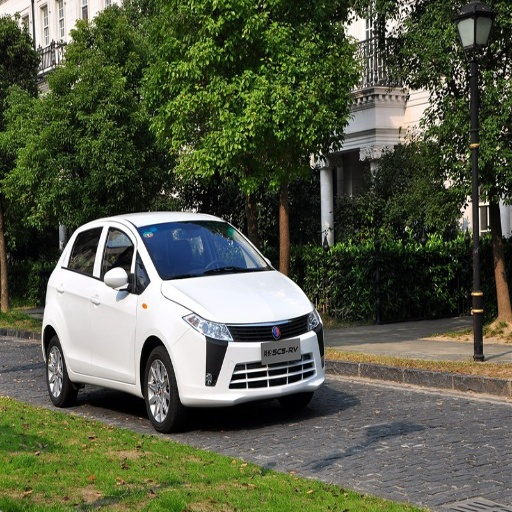front_bumper: (173, 312, 324, 407)
front_right_door: (92, 224, 139, 381)
